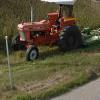Tractor: (10, 7, 99, 59)
